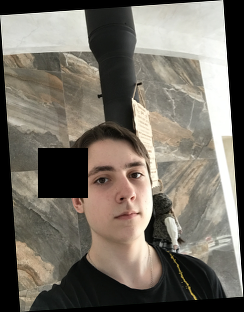without_mask: (80, 162, 154, 244)
